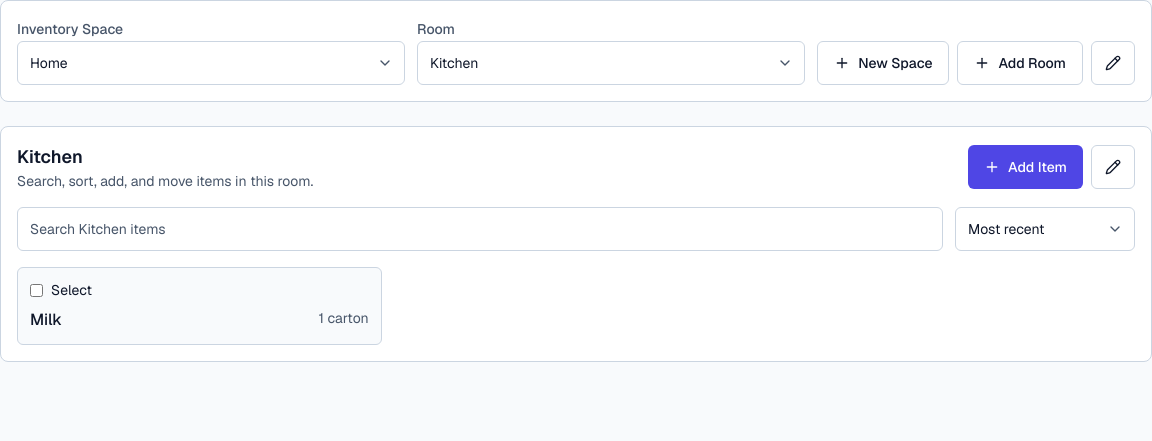
Scenario: RoomDashboardSurface › maps create space limit errors to deterministic max-5 message
This screenshot has width=1152, height=441.
What coordinates should you click on to do the following:
click the button "New Space"
I would click on:
 (883, 63)
Its box is [817,41,950,85].
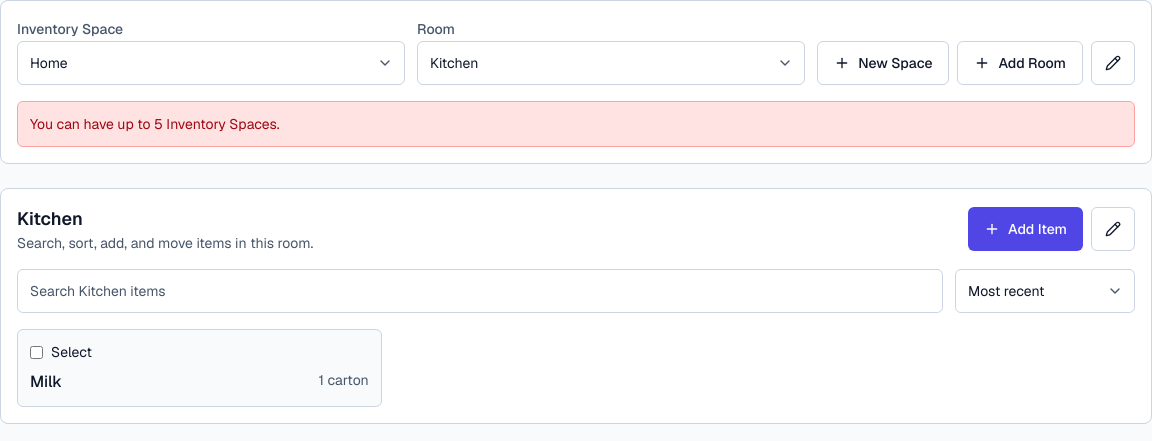
Check: the text "You can have up to 5 Inventory Spaces." is shown, box [17,101,1135,147]
